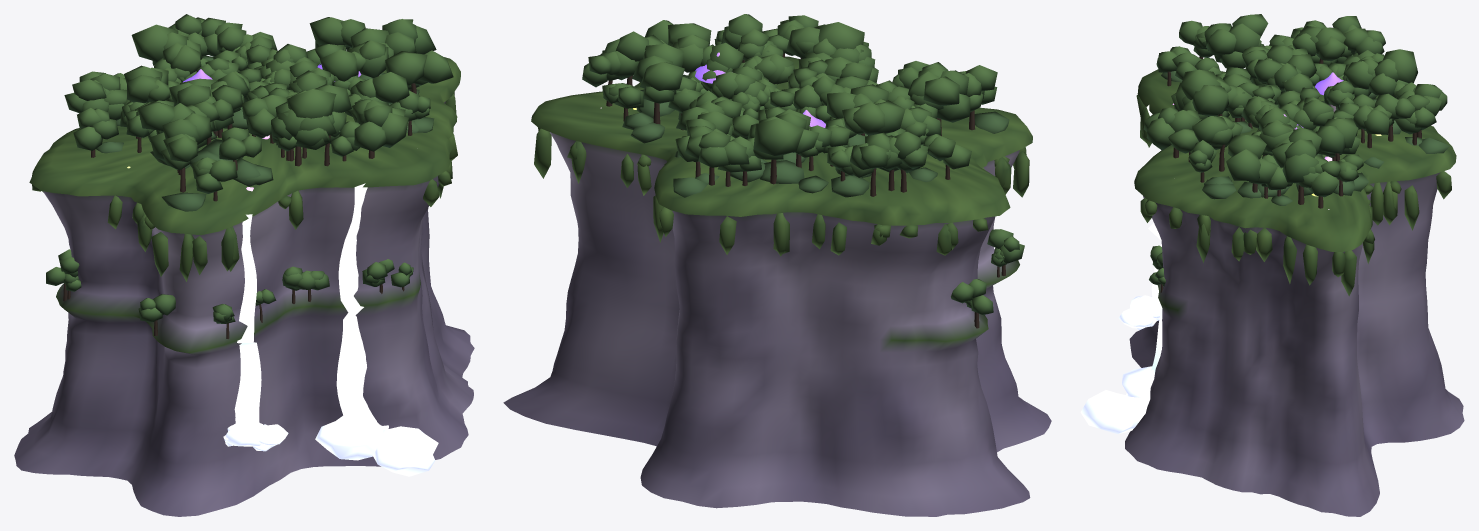
Rendered from mesa_lobed.glb.
3 renders of one model, left to right at view 1: azimuth 30°, elevation 25°; view 2: azimuth 150°, elevation 25°; view 3: azimuth 270°, elevation 25°, orthographic. The views are drawn at different scales.
Parts seen in each view (by area): view 1: hero_valley_rock, hero_valley_leaf, hero_valley_moss, valley_falls, valley_spray, hero_valley_bark; view 2: hero_valley_rock, hero_valley_leaf, hero_valley_moss, hero_valley_bark; view 3: hero_valley_rock, hero_valley_leaf, hero_valley_moss, valley_spray, hero_valley_bark, valley_falls.
Part boxes in pixels (x1,y1,x2,y2): hero_valley_rock: [14, 101, 474, 516]; hero_valley_leaf: [46, 14, 453, 323]; hero_valley_moss: [29, 57, 460, 281]; valley_falls: [234, 183, 376, 425]; valley_spray: [223, 415, 438, 476]; hero_valley_bark: [63, 75, 416, 338]; hero_valley_rock: [503, 132, 1051, 516]; hero_valley_leaf: [582, 14, 1024, 314]; hero_valley_moss: [531, 56, 1032, 256]; hero_valley_bark: [606, 53, 1005, 328]; hero_valley_rock: [1125, 172, 1464, 516]; hero_valley_leaf: [1143, 14, 1449, 286]; hero_valley_moss: [1134, 69, 1456, 296]; valley_spray: [1080, 295, 1161, 433]; hero_valley_bark: [1160, 56, 1421, 292]; valley_falls: [1146, 105, 1162, 373].
Bounding box in the file's own units: 240 × 174 × 179.
